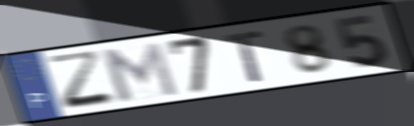5: (331, 12, 390, 70)
7: (165, 34, 212, 95)
8: (281, 22, 334, 74)
M: (96, 40, 182, 104)
T: (222, 29, 266, 84)
Z: (44, 48, 120, 112)
